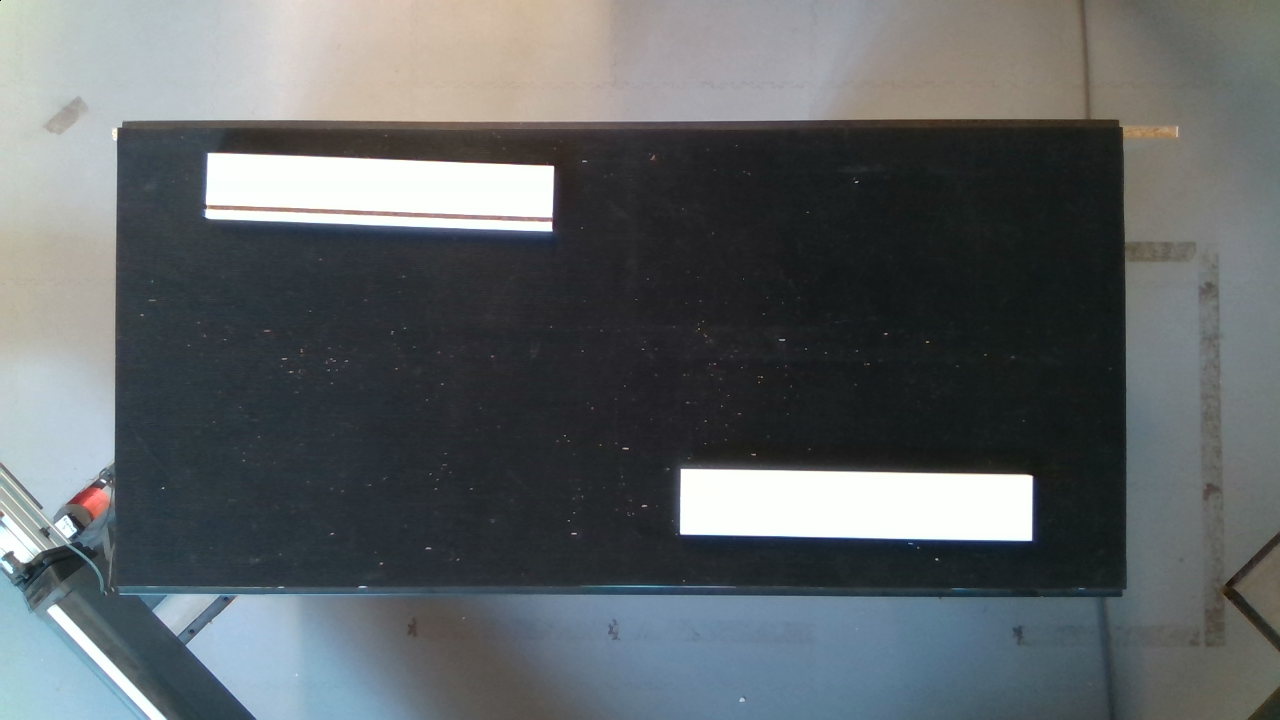part1: (653, 450, 1048, 550), (195, 145, 563, 244)
